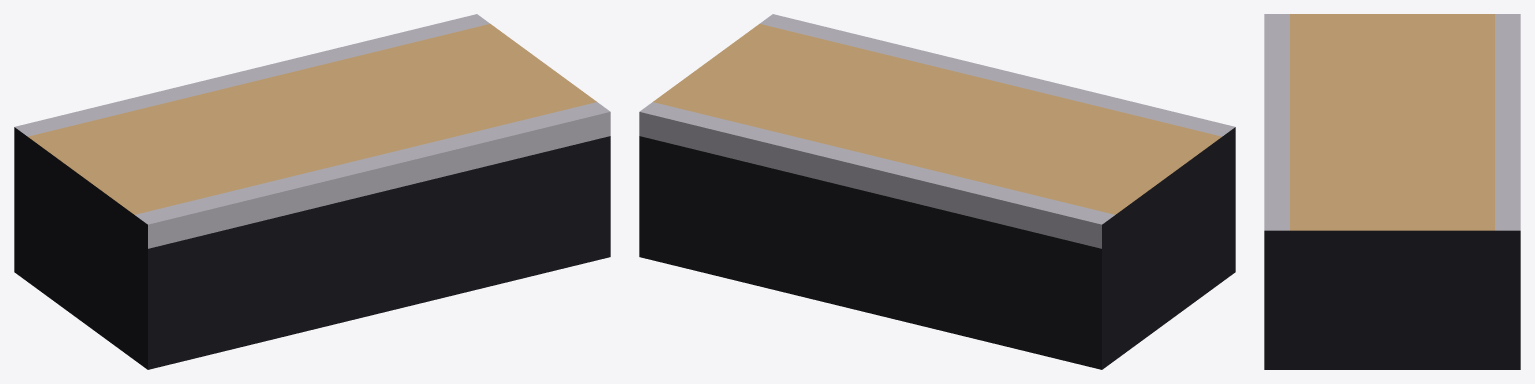
File: ManPad_Half_3_TwoGrind.fbx
The picture shows the model from 3 angles, left to right: view 1: azimuth 30°, elevation 25°; view 2: azimuth 150°, elevation 25°; view 3: azimuth 270°, elevation 25°; orthographic projection. The views are drawn at different scales.
Parts seen in each view (by area): view 1: ManPad_Half_3_TwoGrind; view 2: ManPad_Half_3_TwoGrind; view 3: ManPad_Half_3_TwoGrind.
Part boxes in pixels (bbox=[...]): ManPad_Half_3_TwoGrind: bbox=[14, 14, 610, 369]; ManPad_Half_3_TwoGrind: bbox=[639, 14, 1235, 369]; ManPad_Half_3_TwoGrind: bbox=[1264, 14, 1520, 369].
Size of the model in its own units: 10 by 3 by 5.
